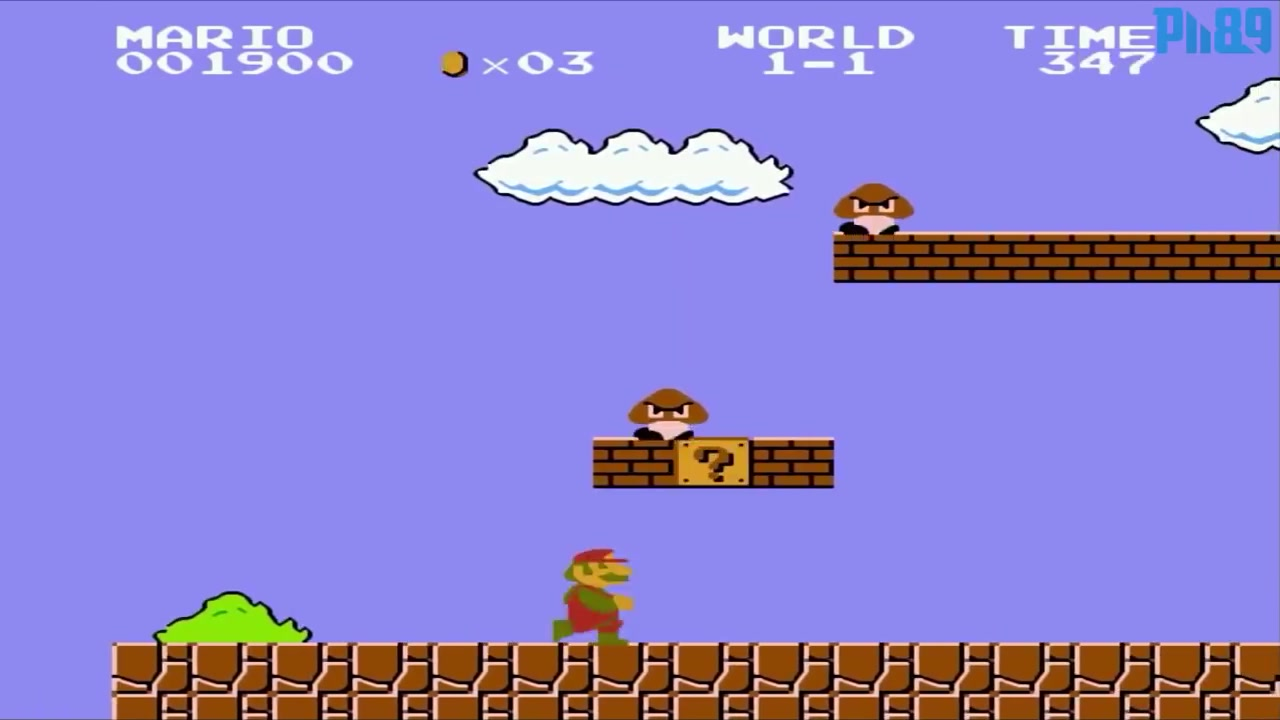mario: (544, 542, 649, 643)
